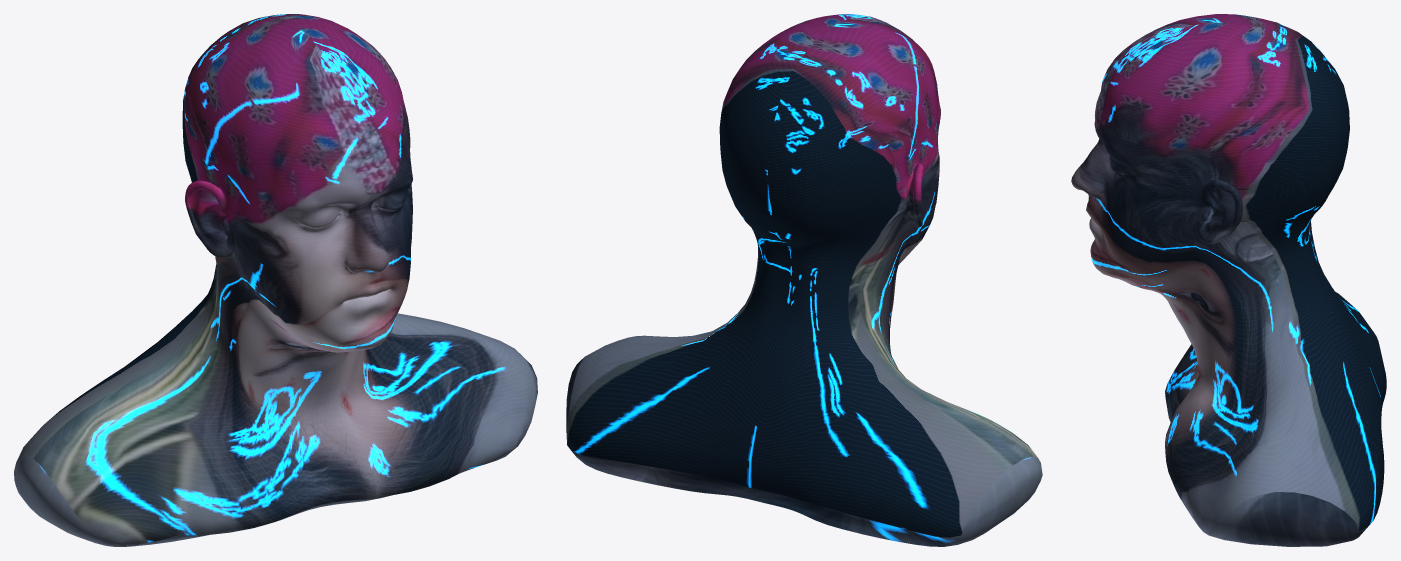
Rendered from holo_1768592689867.glb.
3 renders of one model, left to right at view 1: azimuth 30°, elevation 25°; view 2: azimuth 150°, elevation 25°; view 3: azimuth 270°, elevation 25°, orthographic. The views are drawn at different scales.
Parts seen in each view (by area): view 1: LeePerrySmith; view 2: LeePerrySmith; view 3: LeePerrySmith.
Boxes of the visible parts, <box> form: LeePerrySmith: <box>14,14,537,546</box>; LeePerrySmith: <box>566,14,1042,546</box>; LeePerrySmith: <box>1071,14,1386,546</box>.
Size of the model in its own units: 8.55 by 7.95 by 5.18.
1 material, 1 textured.
